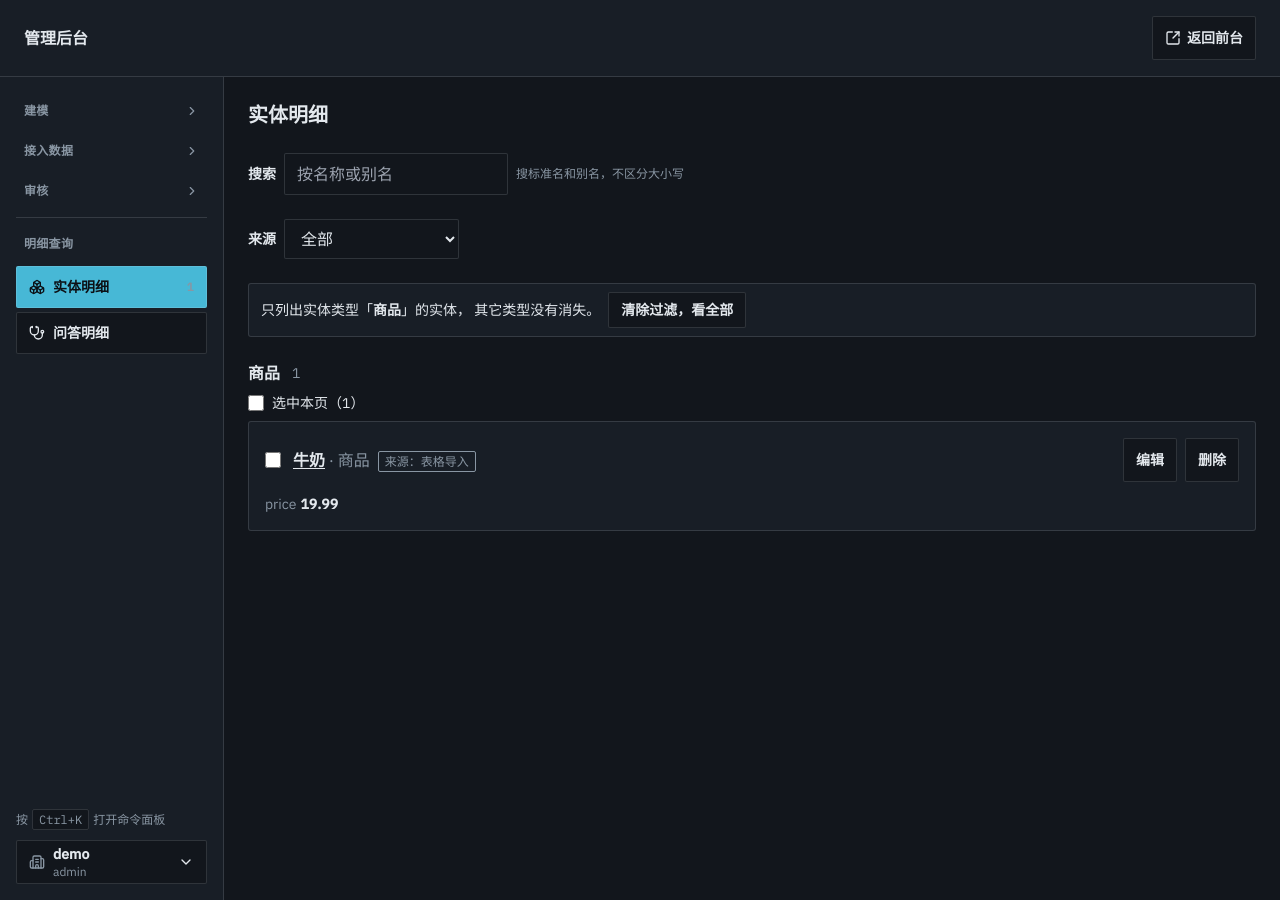
Scenario: 实体明细的属性显示名 › 没有显示名的字段回退到内部名
Click the button "编辑" at [1150, 460], box [1123,438,1177,482]
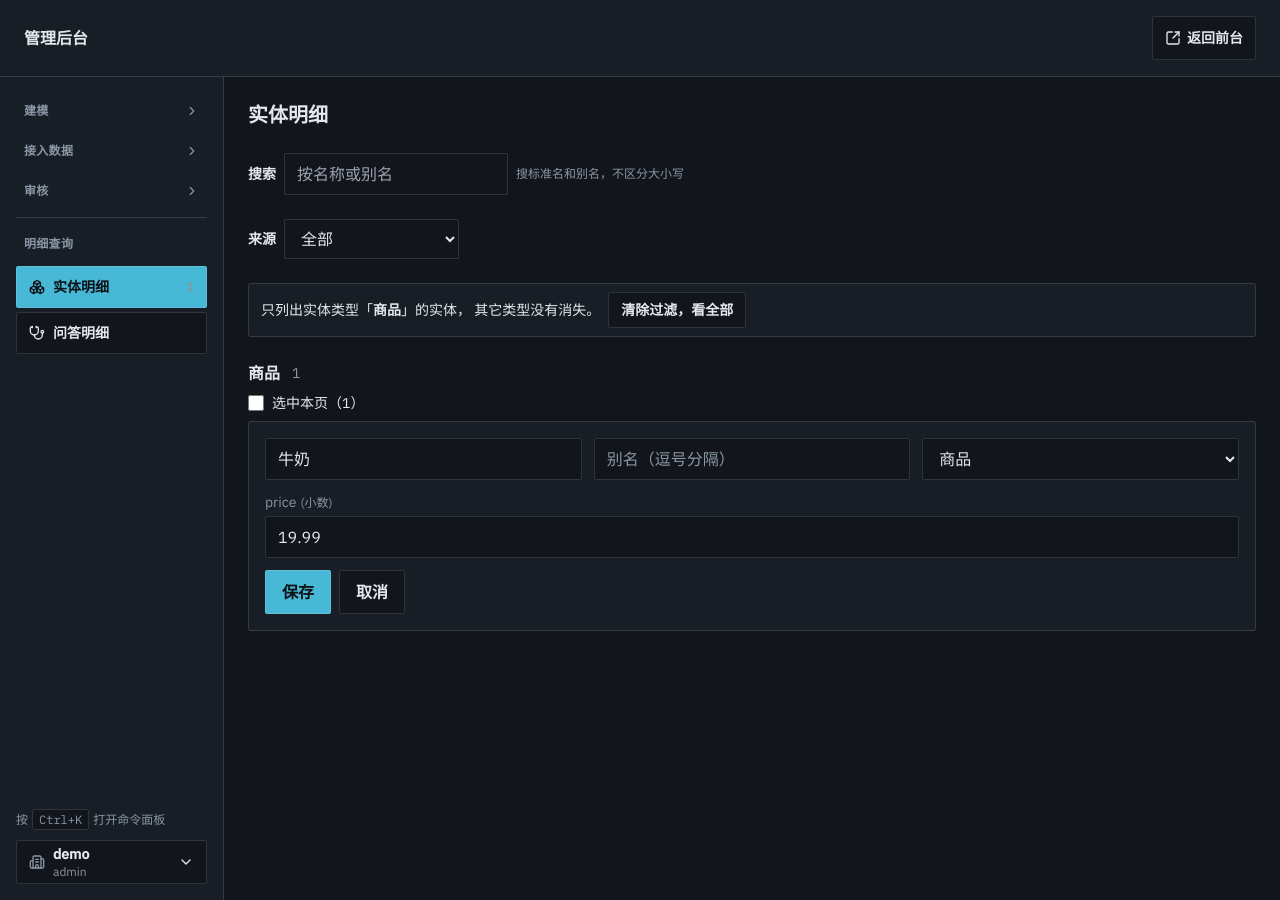
Now the field named "price（牛奶）" is shown, box [265,516,1239,558]
